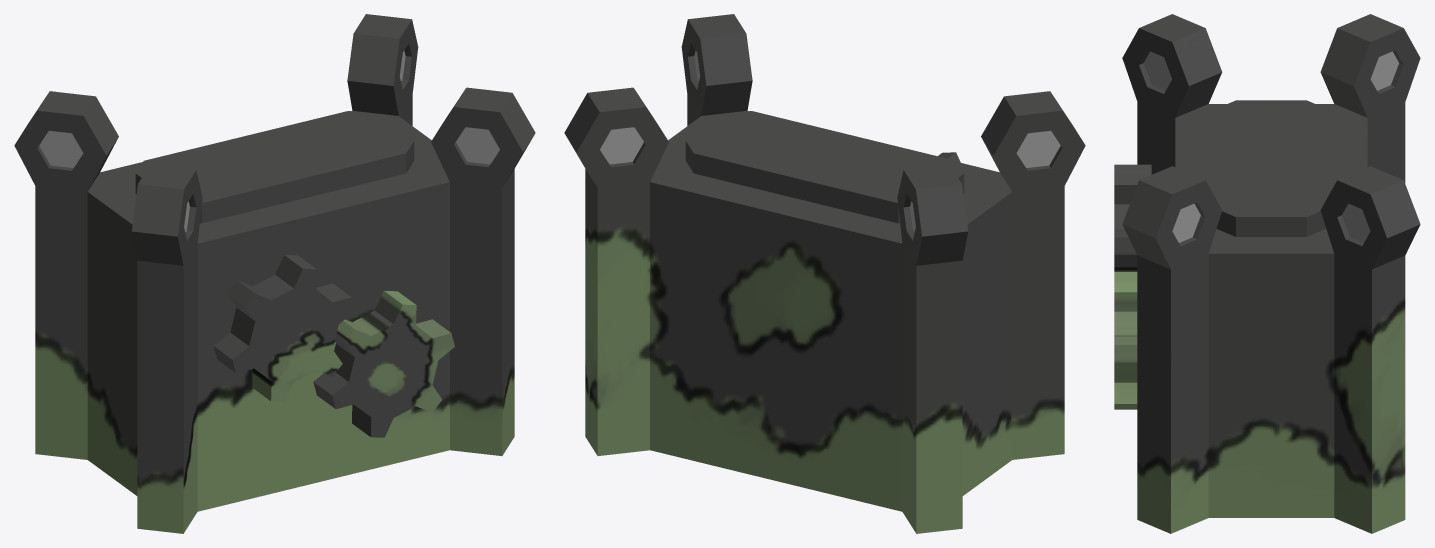
Rendered from Ancient_GearBox.fbx.
3 views of the same model, side by side, from view 1: azimuth 30°, elevation 25°; view 2: azimuth 150°, elevation 25°; view 3: azimuth 270°, elevation 25° (orthographic).
Visible parts, largest first — view 1: Box, Gear_02, Gear_01, Light; view 2: Box, Light; view 3: Box, Gear_01, Light, Gear_02.
Boxes of the visible parts, x1,y1,x2,y2 form: Box: (14, 14, 535, 533); Gear_02: (213, 255, 355, 401); Gear_01: (313, 291, 454, 437); Light: (39, 50, 499, 232); Box: (564, 14, 1085, 533); Light: (600, 50, 1060, 232); Box: (1122, 14, 1420, 533); Gear_01: (1114, 272, 1137, 409); Light: (1143, 51, 1398, 242); Gear_02: (1114, 164, 1151, 271).
Bounding box in the file's own units: 3.1 × 2.52 × 2.06.
Materials: 2 (1 with a texture image).
